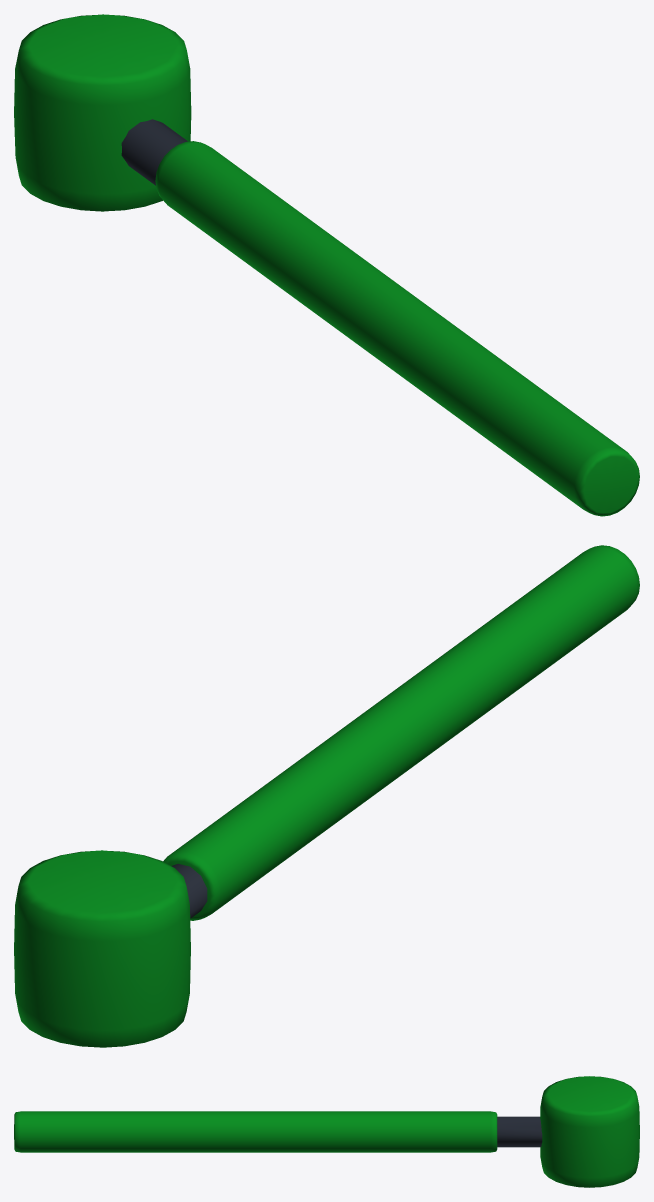
Rendered from Obstacle_Pole_Small.glb.
3 views of the same model, one above another, from view 1: azimuth 30°, elevation 25°; view 2: azimuth 150°, elevation 25°; view 3: azimuth 270°, elevation 25° (orthographic). The views are drawn at different scales.
Parts seen in each view (by area): view 1: Obstacle_Pole_Small; view 2: Obstacle_Pole_Small; view 3: Obstacle_Pole_Small.
Part boxes in pixels (x1=…): Obstacle_Pole_Small: x1=14, y1=14, x2=639, y2=516; Obstacle_Pole_Small: x1=14, y1=545, x2=639, y2=1047; Obstacle_Pole_Small: x1=14, y1=1076, x2=639, y2=1187.
Size of the model in its own units: 0.7872 by 0.6749 by 4.92.
